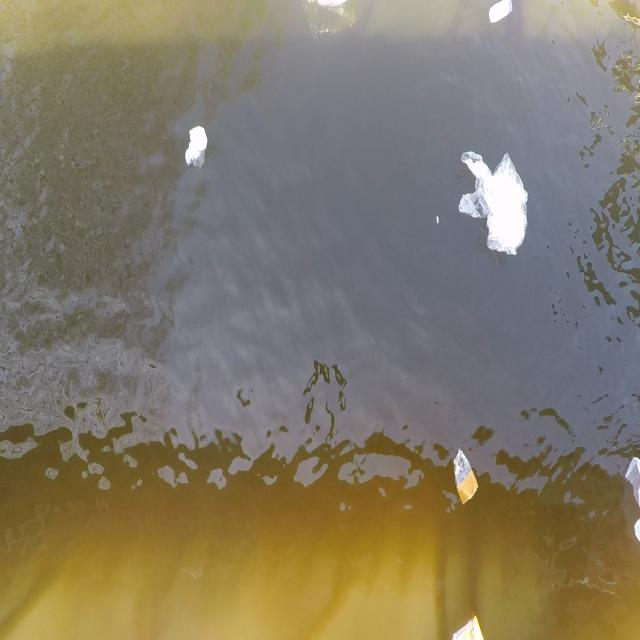Autre plastique: (181, 122, 212, 174), (489, 1, 516, 32)
Sac plastique: (456, 138, 536, 278)
